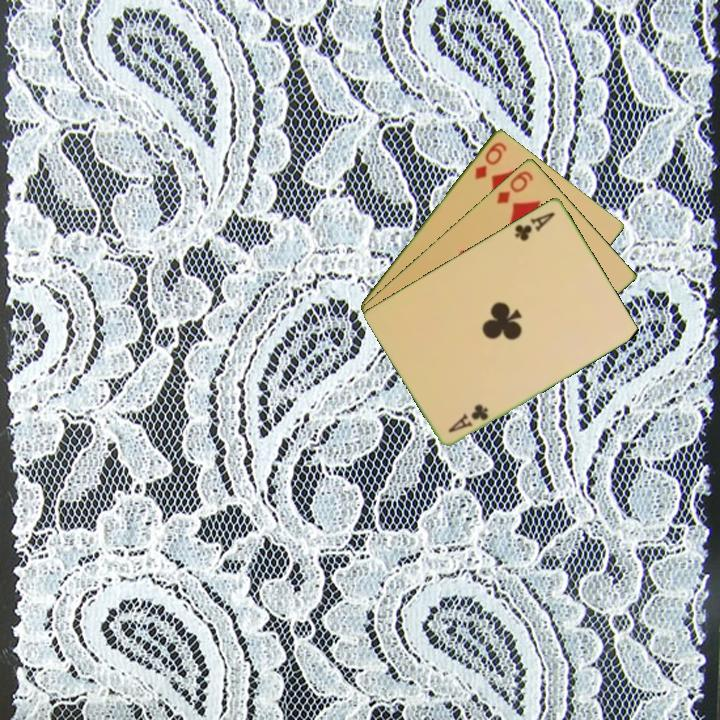6d: (471, 138, 510, 182), (493, 167, 536, 206)
Ac: (511, 208, 558, 244), (445, 400, 492, 435)
